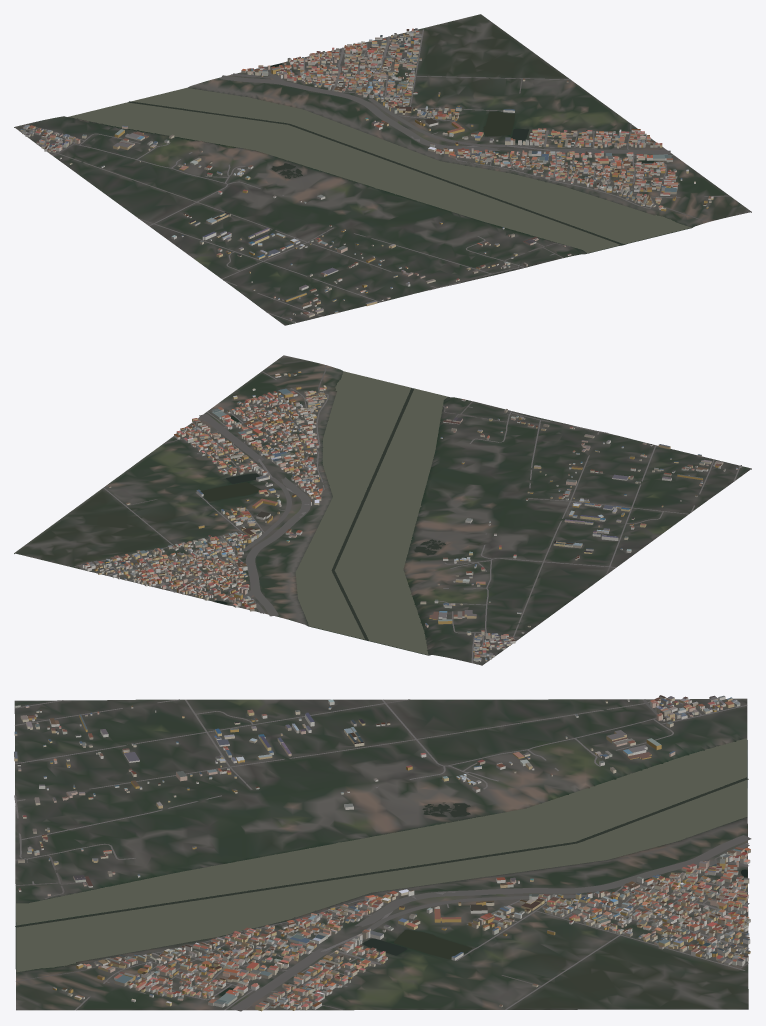
3 views of the same model, one above another, from view 1: azimuth 30°, elevation 25°; view 2: azimuth 150°, elevation 25°; view 3: azimuth 270°, elevation 25° (orthographic). The views are drawn at different scales.
Parts seen in each view (by area): view 1: ground, water, buildings, roads; view 2: ground, water, buildings, roads; view 3: ground, water, buildings, roads.
Boxes of the visible parts, x1,y1,x2,y2 form: ground: (14, 14, 751, 325); water: (68, 63, 691, 253); buildings: (20, 28, 713, 323); roads: (24, 29, 729, 322); ground: (14, 355, 751, 665); water: (201, 371, 447, 654); buildings: (81, 371, 741, 661); roads: (74, 365, 740, 663); ground: (14, 698, 748, 1010); water: (15, 738, 748, 995); buildings: (14, 695, 750, 1011); roads: (14, 699, 751, 1011).
Size of the model in its own units: 1412 by 23.23 by 1412.
